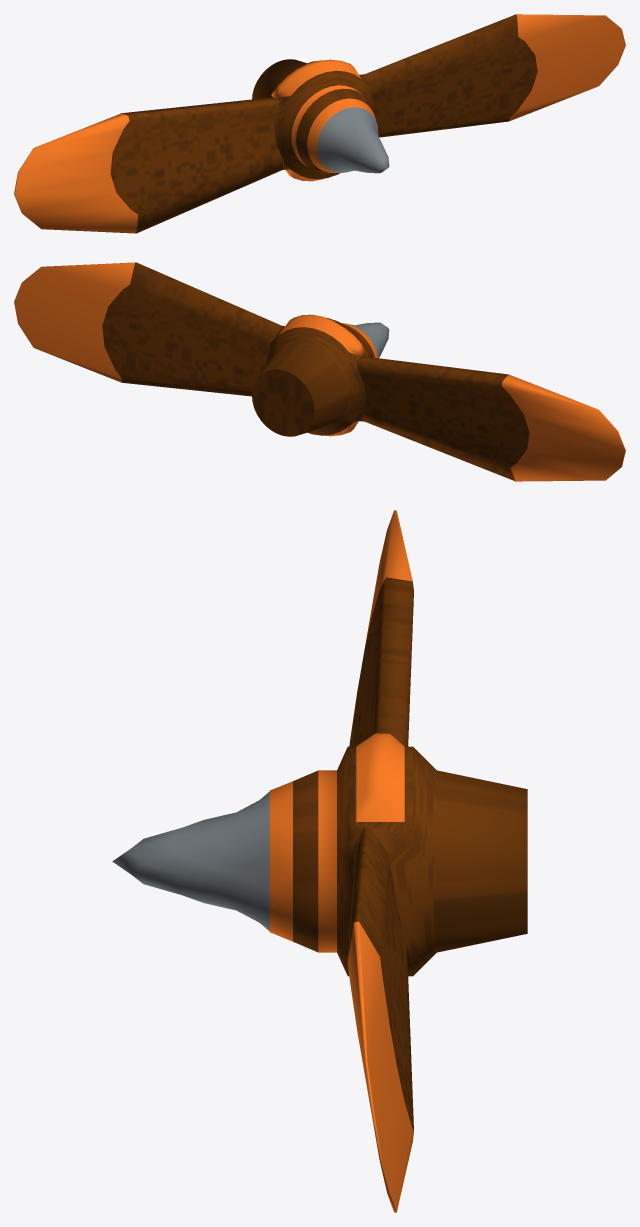
File: Propeller1.obj
3 renders of one model, top to bottom at view 1: azimuth 30°, elevation 25°; view 2: azimuth 150°, elevation 25°; view 3: azimuth 270°, elevation 25°, orthographic. The views are drawn at different scales.
Parts seen in each view (by area): view 1: Cylinder.001; view 2: Cylinder.001; view 3: Cylinder.001.
Boxes of the visible parts, x1,y1,x2,y2 form: Cylinder.001: (14,14,625,233); Cylinder.001: (14,262,625,481); Cylinder.001: (112,510,527,1212).
Size of the model in its own units: 2.95 by 0.5788 by 0.8672.
